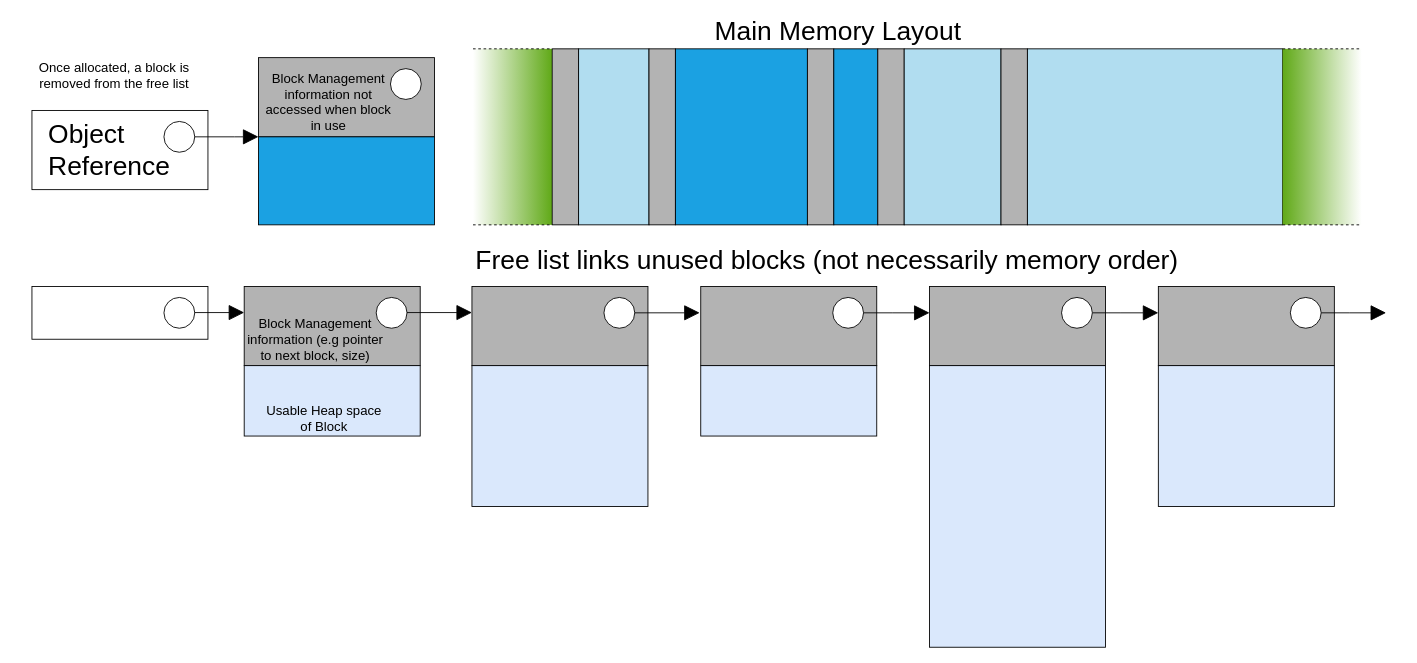
Image size: 1417x663. Some labels were removed from this diagram. The shapes that lost their labels are listed below. From the top down, each one's box as (x1, y1, x2, y2) in pixels, then its label:
(258, 136, 434, 225): Object fields, MLT, etc.
(31, 286, 208, 339): Free List
